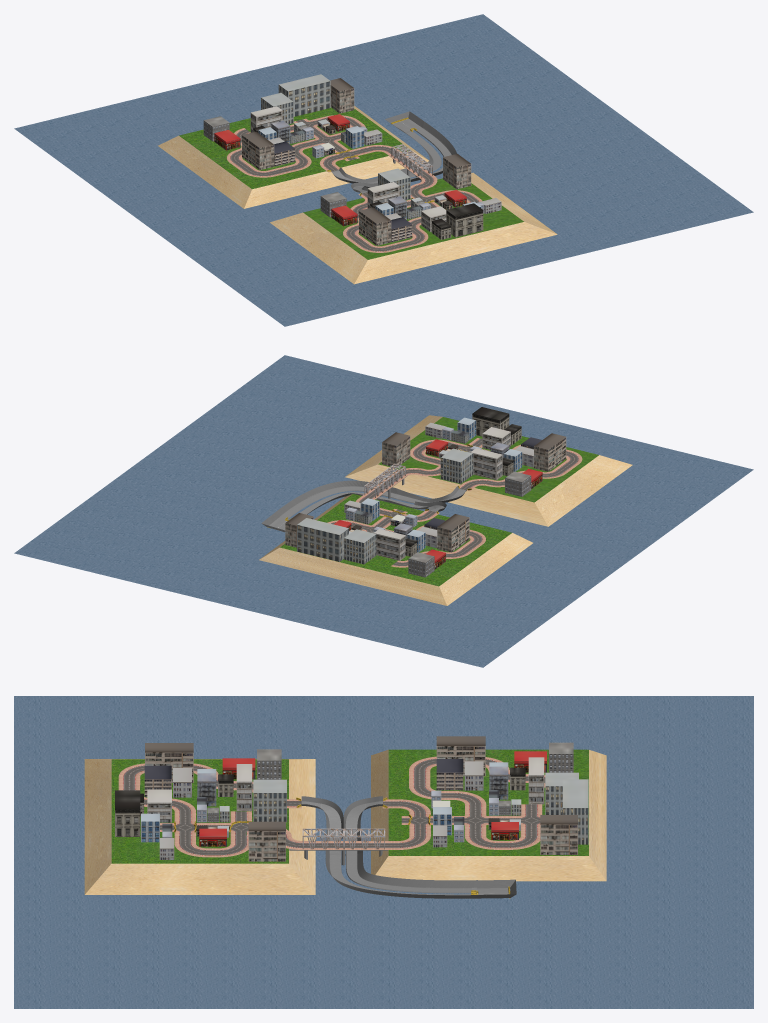
Rendered from Final-Track-6.fbx.
3 views of the same model, one above another, from view 1: azimuth 30°, elevation 25°; view 2: azimuth 150°, elevation 25°; view 3: azimuth 270°, elevation 25° (orthographic). The views are drawn at different scales.
Parts seen in each view (by area): view 1: Water, Buildings, pCube14, pCube12, Rd_sprt, FP_sprt, La_river_RD, Garder_3; view 2: Water, Buildings, pCube12, pCube14, La_river_RD, FP_sprt, Rd_sprt, Garder_3; view 3: Water, Buildings, pCube14, pCube12, La_river_RD, Rd_sprt, FP_sprt, Garder_3.
Boxes of the visible parts, box(x1,y1,x2,y2) form: Water: box(14, 14, 753, 326); Buildings: box(203, 74, 501, 245); pCube14: box(270, 172, 557, 284); pCube12: box(158, 106, 428, 208); Rd_sprt: box(230, 117, 478, 251); FP_sprt: box(227, 115, 482, 252); La_river_RD: box(331, 111, 456, 193); Garder_3: box(391, 144, 432, 178); Water: box(14, 355, 753, 667); Buildings: box(285, 407, 566, 577); pCube12: box(259, 494, 532, 605); pCube14: box(345, 415, 632, 526); La_river_RD: box(261, 480, 467, 532); FP_sprt: box(327, 438, 582, 567); Rd_sprt: box(331, 438, 578, 565); Garder_3: box(364, 463, 405, 497); Water: box(14, 696, 753, 1008); Buildings: box(115, 736, 588, 861); pCube14: box(84, 759, 315, 894); pCube12: box(371, 749, 606, 881); La_river_RD: box(301, 796, 516, 898); Rd_sprt: box(123, 759, 545, 854); FP_sprt: box(118, 756, 545, 857); Garder_3: box(302, 828, 385, 849).
Size of what is drawn, in the model's own units: 93542 by 7662 by 93542.
